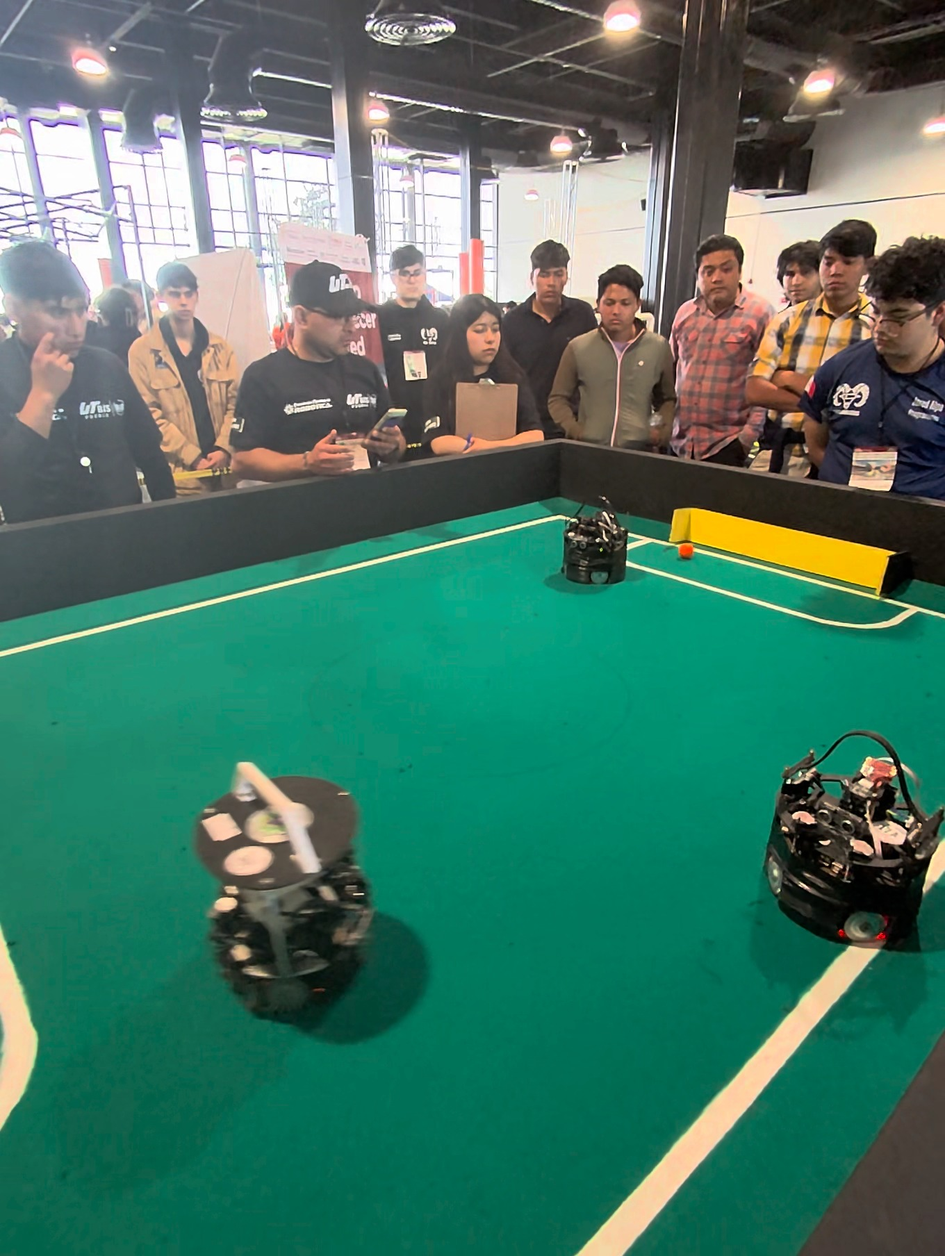Robot: (190, 733, 423, 1046), (767, 718, 943, 963), (555, 499, 628, 597)
pelota: (675, 539, 697, 564)
